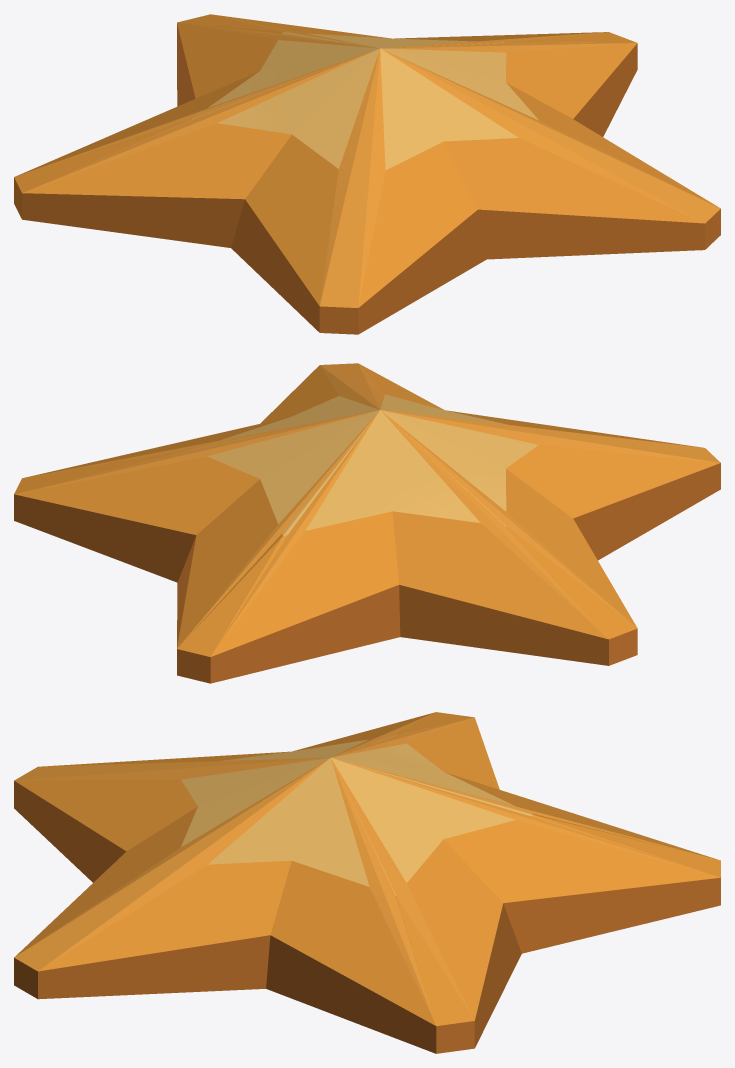
File: StarFish.fbx
3 renders of one model, top to bottom at view 1: azimuth 30°, elevation 25°; view 2: azimuth 150°, elevation 25°; view 3: azimuth 270°, elevation 25°, orthographic. The views are drawn at different scales.
Visible parts, largest first — view 1: StarFish_01, StarFish_04; view 2: StarFish_01, StarFish_04; view 3: StarFish_01, StarFish_04.
Part boxes in pixels (box(x1,y1,x2,y2)): StarFish_01: box(14, 14, 720, 334); StarFish_04: box(20, 15, 720, 307); StarFish_01: box(14, 364, 720, 683); StarFish_04: box(16, 363, 720, 655); StarFish_01: box(14, 712, 720, 1053); StarFish_04: box(14, 713, 716, 1024).
Size of the model in its own units: 73.06 by 15.09 by 69.48.
